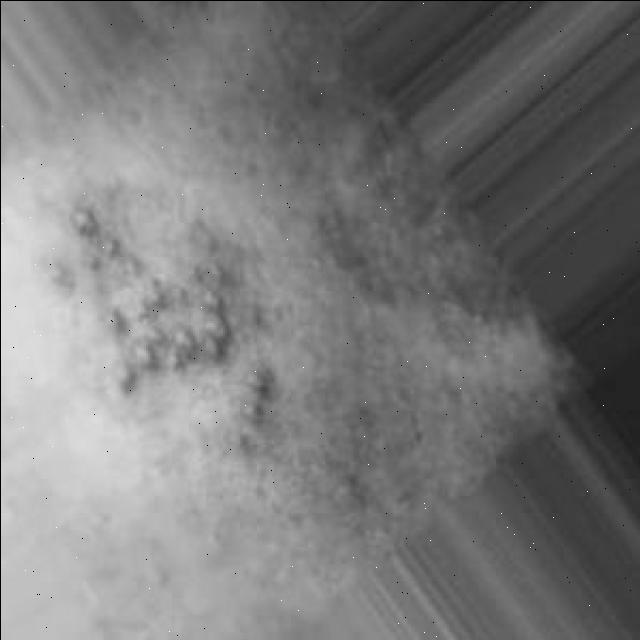Shingles: (55, 200, 278, 448)
